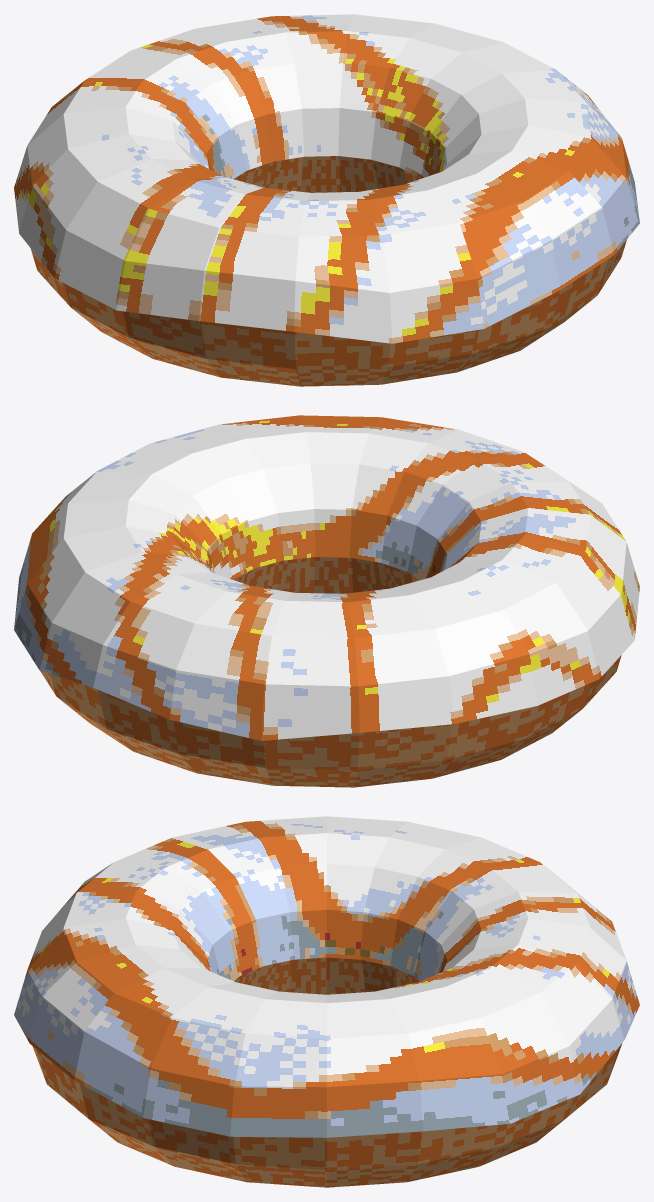
Rendered from donut_2.glb.
3 views of the same model, one above another, from view 1: azimuth 30°, elevation 25°; view 2: azimuth 150°, elevation 25°; view 3: azimuth 270°, elevation 25° (orthographic).
Visible parts, largest first — view 1: doughnut_ps_baked; view 2: doughnut_ps_baked; view 3: doughnut_ps_baked.
Part boxes in pixels (x1,y1,x2,y2): doughnut_ps_baked: (14, 14, 639, 386); doughnut_ps_baked: (14, 415, 639, 787); doughnut_ps_baked: (14, 816, 639, 1187).
Bounding box in the file's own units: 1.28 × 0.3887 × 1.28.
1 material, 1 textured.
